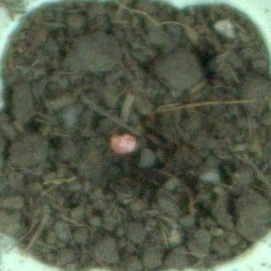pepper seed: (37, 54, 178, 211)
